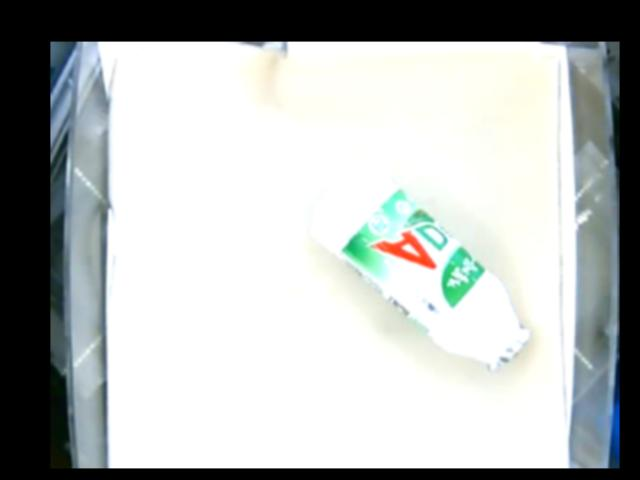Bottle: (313, 167, 532, 372)
